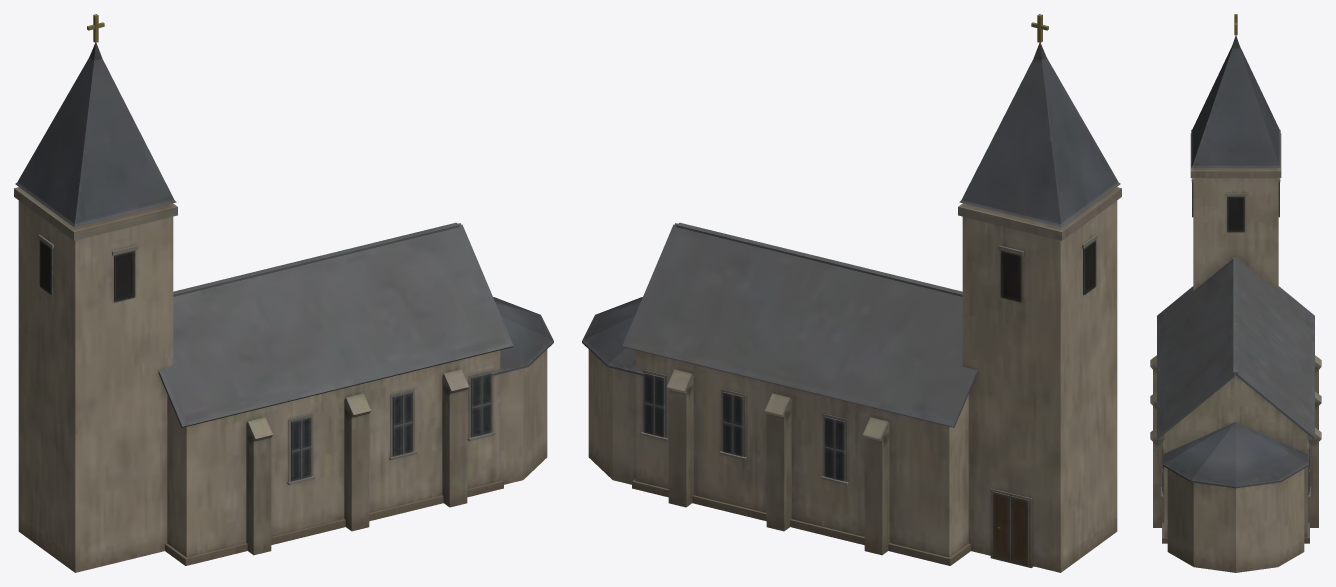
The model's file is church_baked.glb.
3 renders of one model, left to right at view 1: azimuth 30°, elevation 25°; view 2: azimuth 150°, elevation 25°; view 3: azimuth 270°, elevation 25°, orthographic. The views are drawn at different scales.
Parts seen in each view (by area): view 1: church; view 2: church; view 3: church.
Part boxes in pixels (left/top/right/bottom): church: left=14, top=14, right=553, bottom=572; church: left=582, top=14, right=1121, bottom=572; church: left=1150, top=14, right=1321, bottom=572.
Bounding box in the file's own units: 25.35 × 25.69 × 10.04.
1 material, 1 textured.
